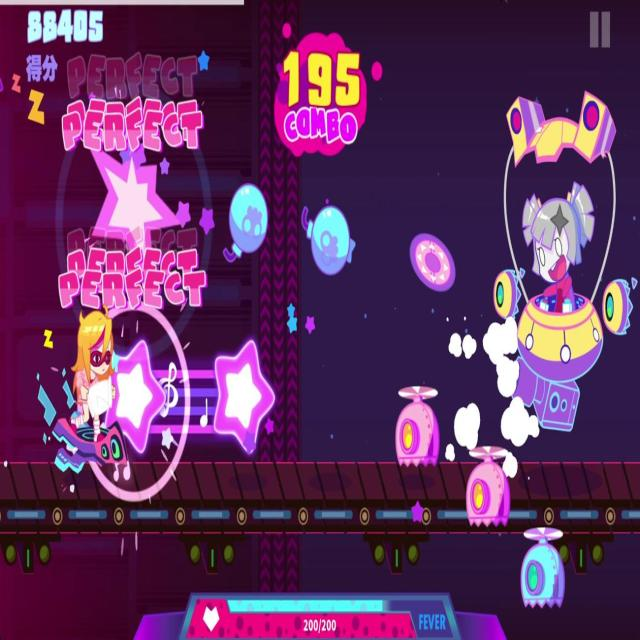hold: (110, 339, 280, 453)
jiqiqiu: (390, 383, 445, 473), (518, 519, 569, 616), (464, 441, 515, 534)
qiangboss: (491, 86, 637, 439)
tang: (220, 180, 266, 267), (302, 200, 354, 276)
